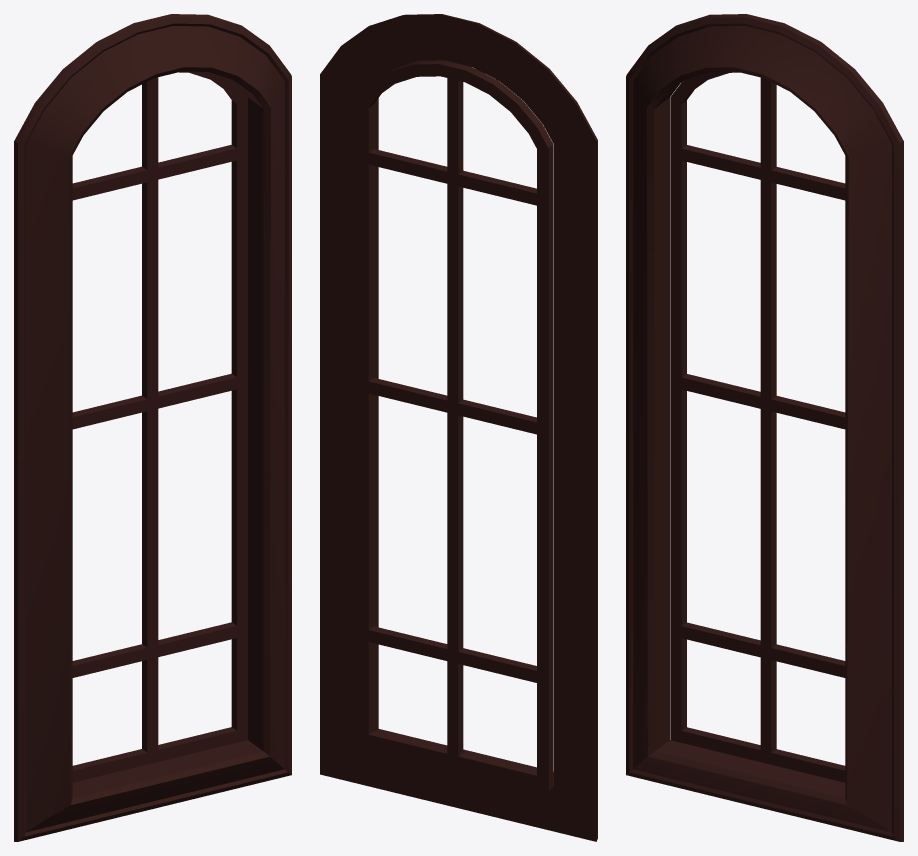
The model's file is museum_win_02.FBX.
3 renders of one model, left to right at view 1: azimuth 30°, elevation 25°; view 2: azimuth 150°, elevation 25°; view 3: azimuth 330°, elevation 25°, orthographic.
Visible parts, largest first — view 1: museum_win_02; view 2: museum_win_02; view 3: museum_win_02.
Part boxes in pixels (x1=…): museum_win_02: x1=14, y1=14, x2=291, y2=841; museum_win_02: x1=320, y1=14, x2=597, y2=841; museum_win_02: x1=626, y1=14, x2=903, y2=841.
Size of the model in its own units: 242 by 659 by 35.19.
